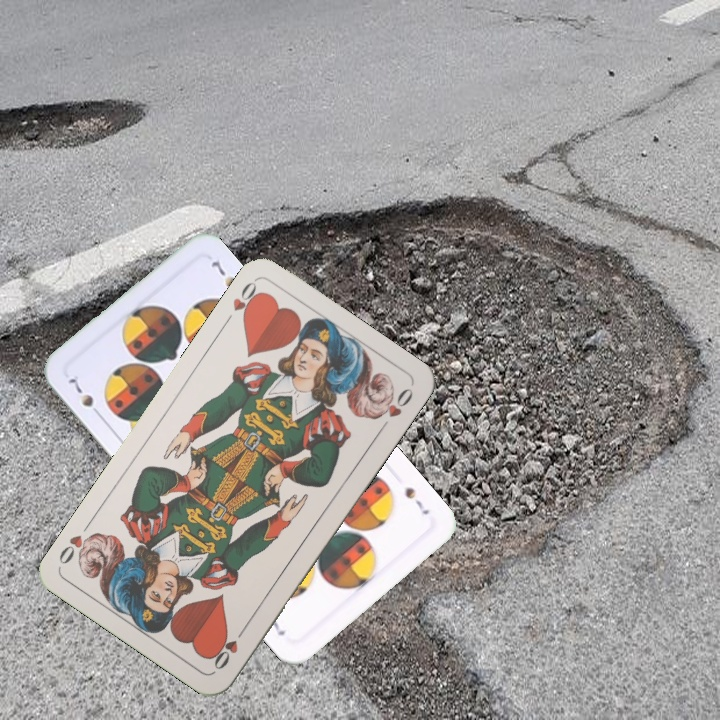HO: (219, 276, 265, 328), (208, 621, 249, 673)
S7: (64, 370, 105, 421), (400, 483, 432, 518)
